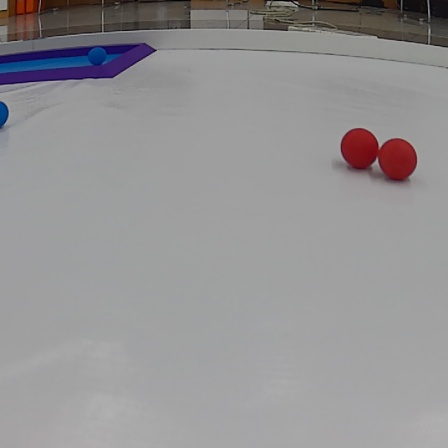blue: (89, 46, 110, 66), (0, 102, 13, 128)
blue_aim: (0, 43, 156, 82)
red: (374, 139, 422, 181), (339, 127, 378, 165)
